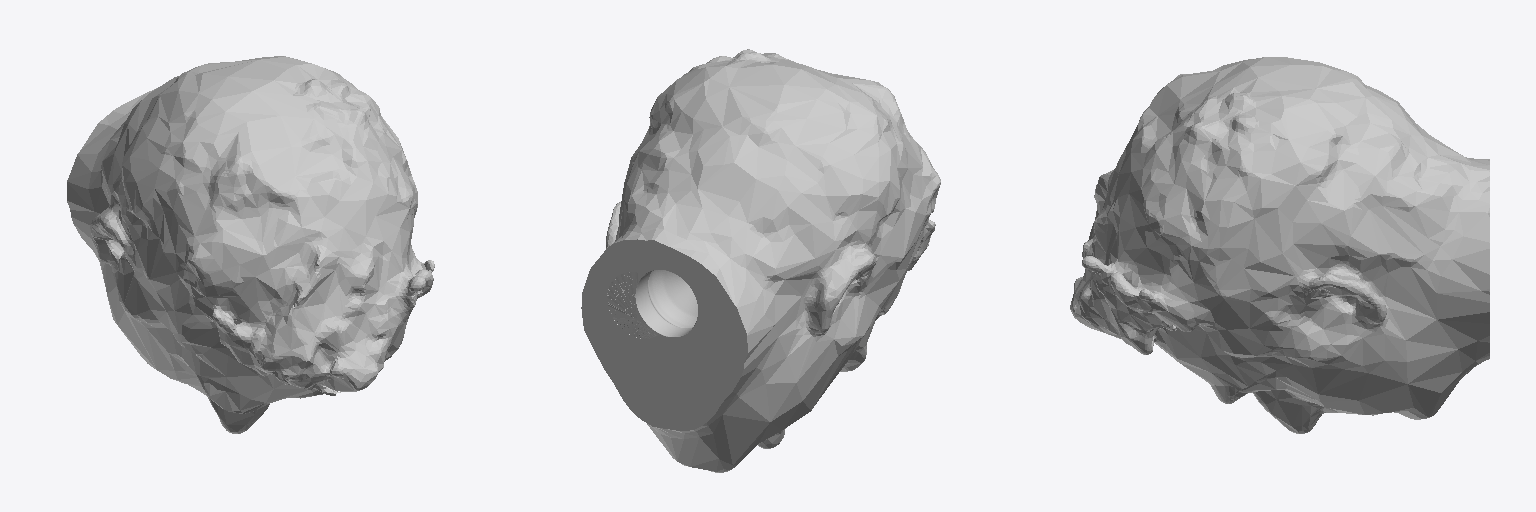
The model's file is 38157-face_QEM_50pct.obj.
The picture shows the model from 3 angles: view 1: azimuth 30°, elevation 25°; view 2: azimuth 150°, elevation 25°; view 3: azimuth 270°, elevation 25°; orthographic projection.
Size of the model in its own units: 0.7038 by 0.957 by 1.